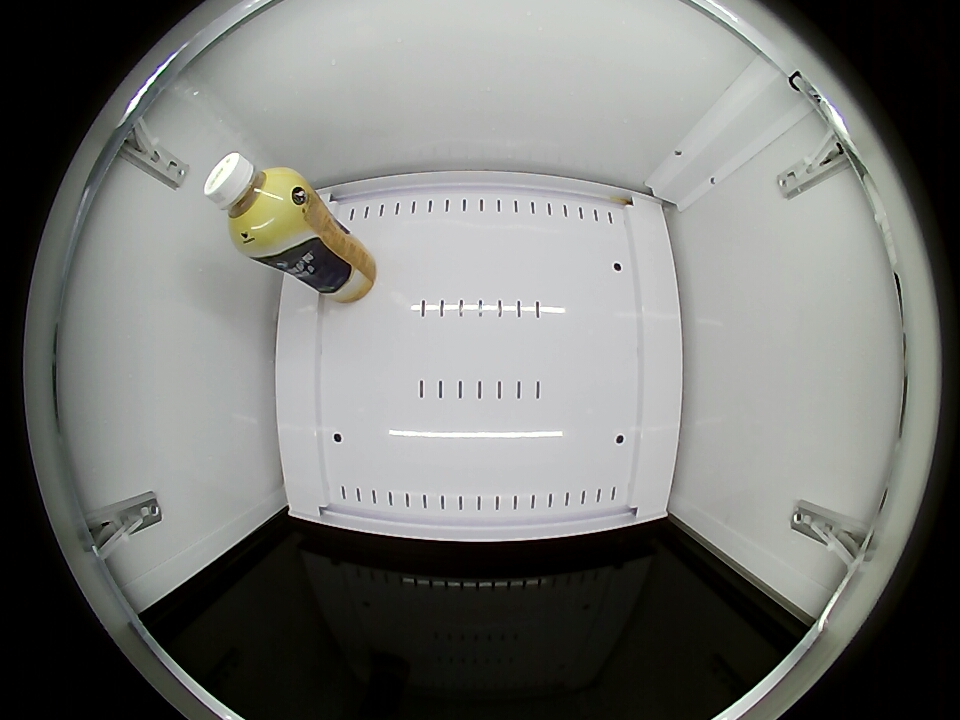asamu: (203, 152, 301, 248)
